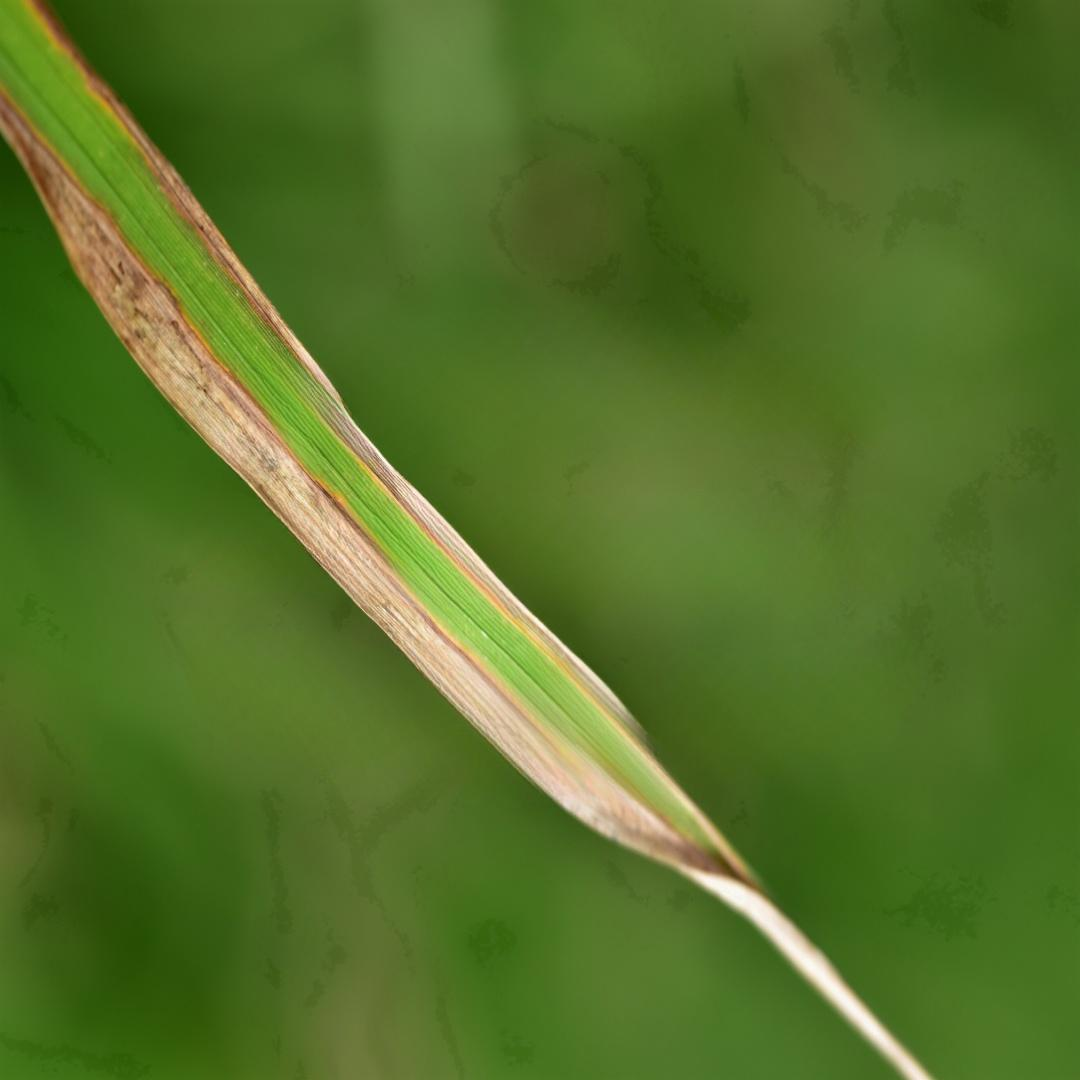BLB: (0, 1, 929, 1078)
LEAF: (0, 0, 931, 1079)
